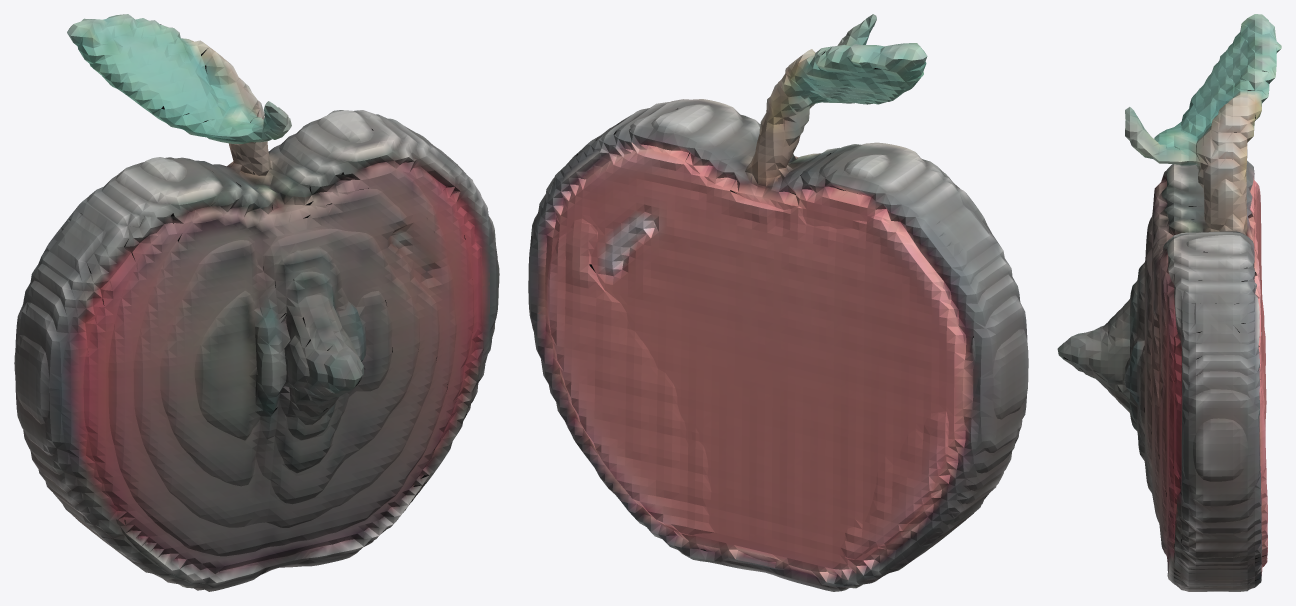
The picture shows the model from 3 angles, left to right: view 1: azimuth 30°, elevation 25°; view 2: azimuth 150°, elevation 25°; view 3: azimuth 270°, elevation 25°; orthographic projection. The views are drawn at different scales.
Visible parts, largest first — view 1: world; view 2: world; view 3: world.
Boxes of the visible parts, x1,y1,x2,y2 form: world: (14, 14, 499, 591); world: (528, 14, 1028, 591); world: (1057, 14, 1281, 591).
Size of the model in its own units: 0.855 by 0.9922 by 0.4175.
Materials: 1 (1 with a texture image).
